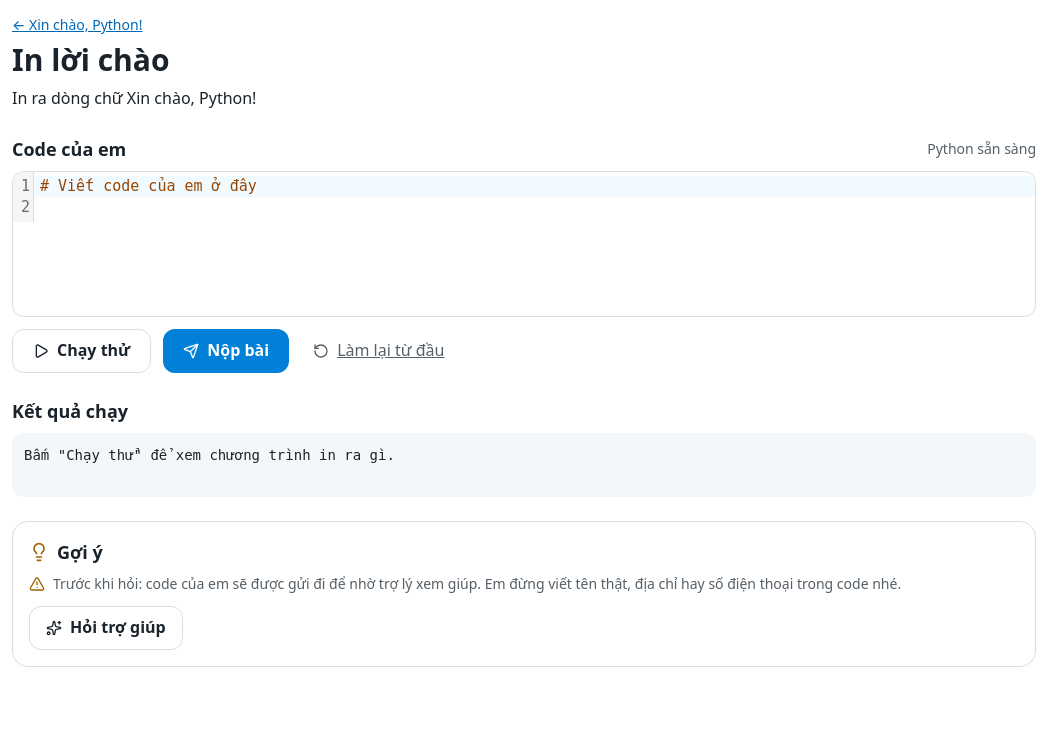
Test: ExercisePage › bấm Nộp bài thì hiện kết quả từng test
Click the button "Nộp bài" at (226, 351), box x1=163 y1=329 x2=289 y2=373
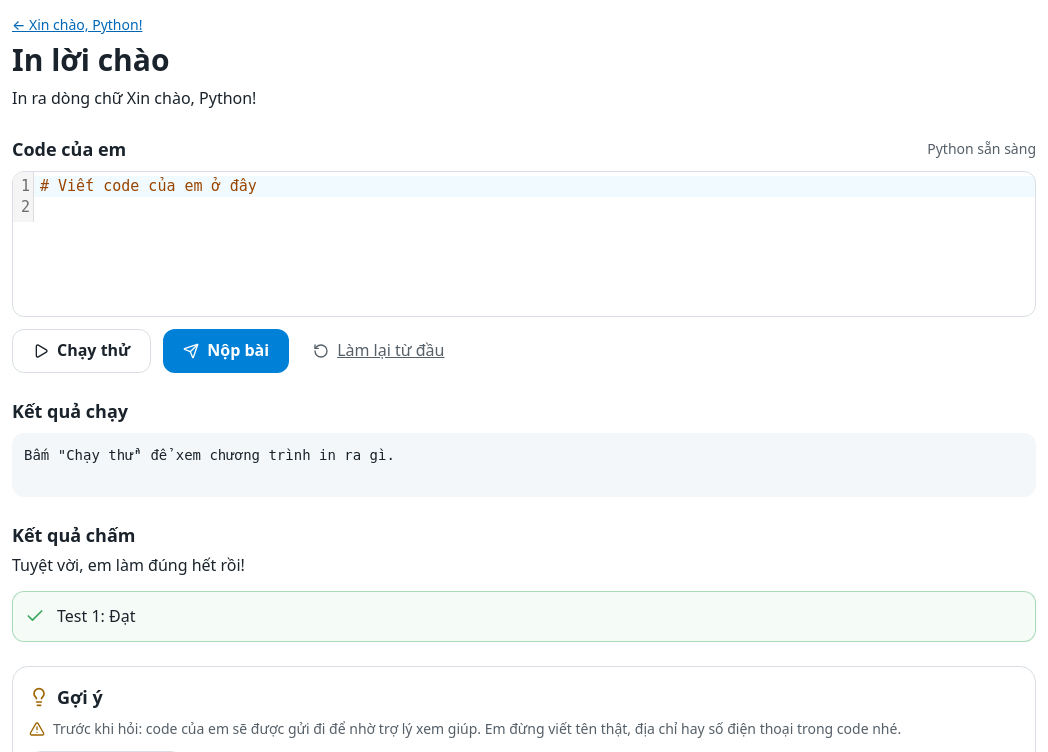
expect the text "Tuyệt vời, em làm đúng hết rồi!" is shown: met, box x1=12 y1=554 x2=245 y2=576
expect the text "Test 1: Đạt" is shown: met, box x1=57 y1=604 x2=136 y2=629
